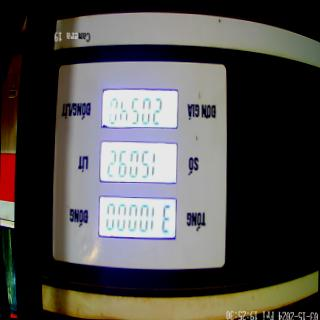screen: (96, 84, 180, 241)
